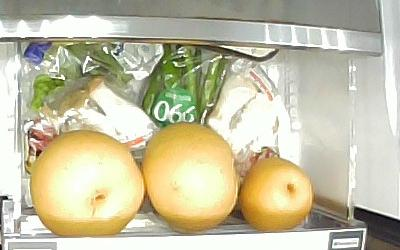pear: (30, 129, 145, 238), (144, 121, 238, 235), (241, 154, 313, 231)
